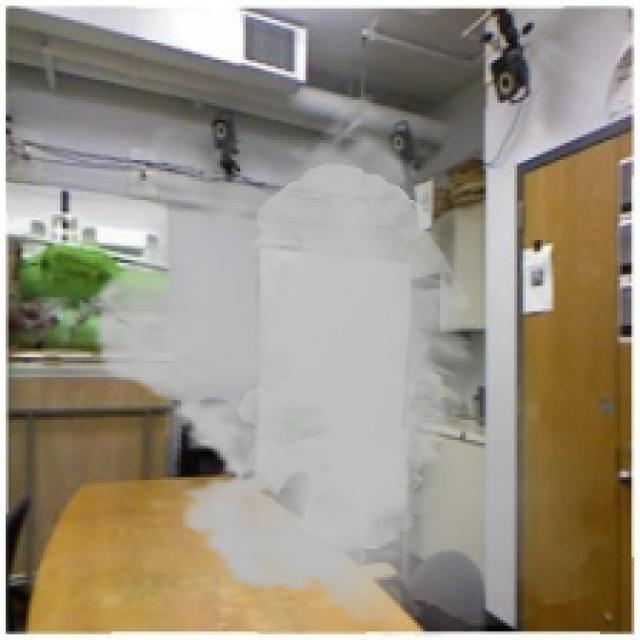smoke: (71, 92, 628, 637)
